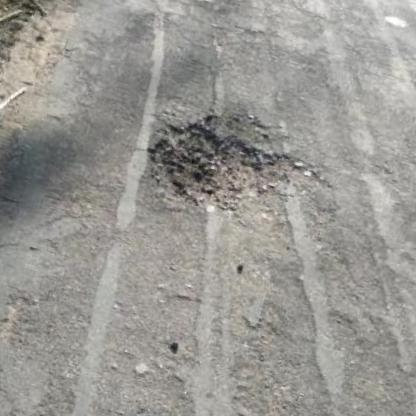pothole: (136, 92, 326, 239)
